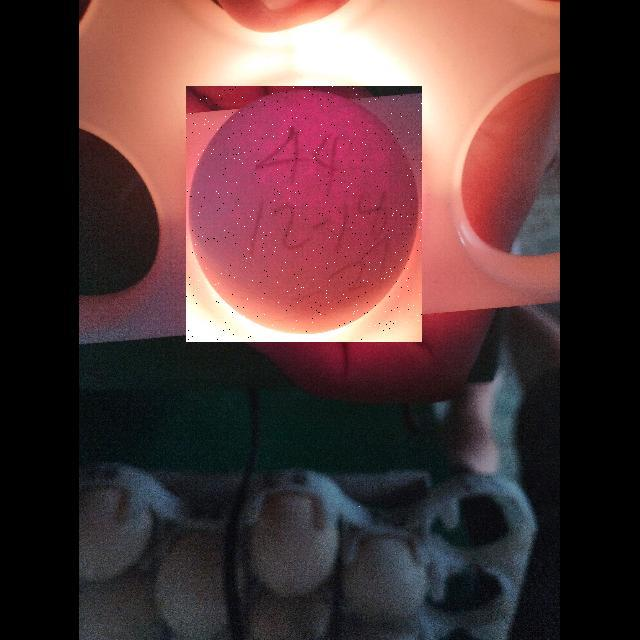Infertile: (186, 86, 422, 342)
